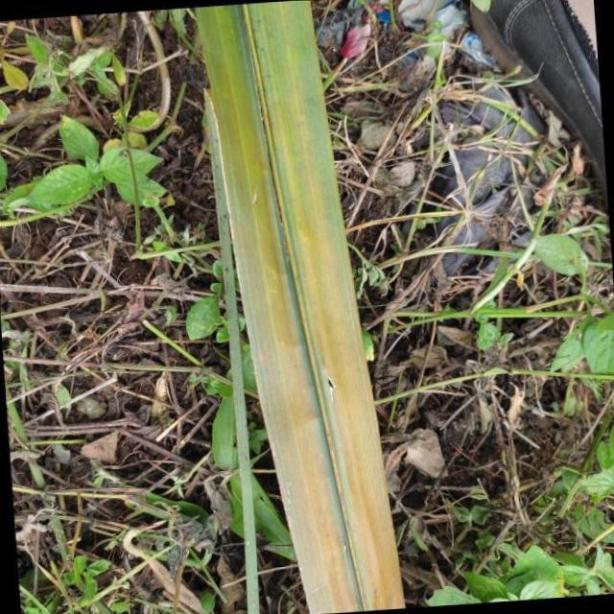Megnesium: (189, 0, 406, 614)
